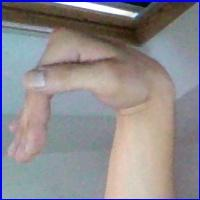del: (1, 26, 178, 177)
